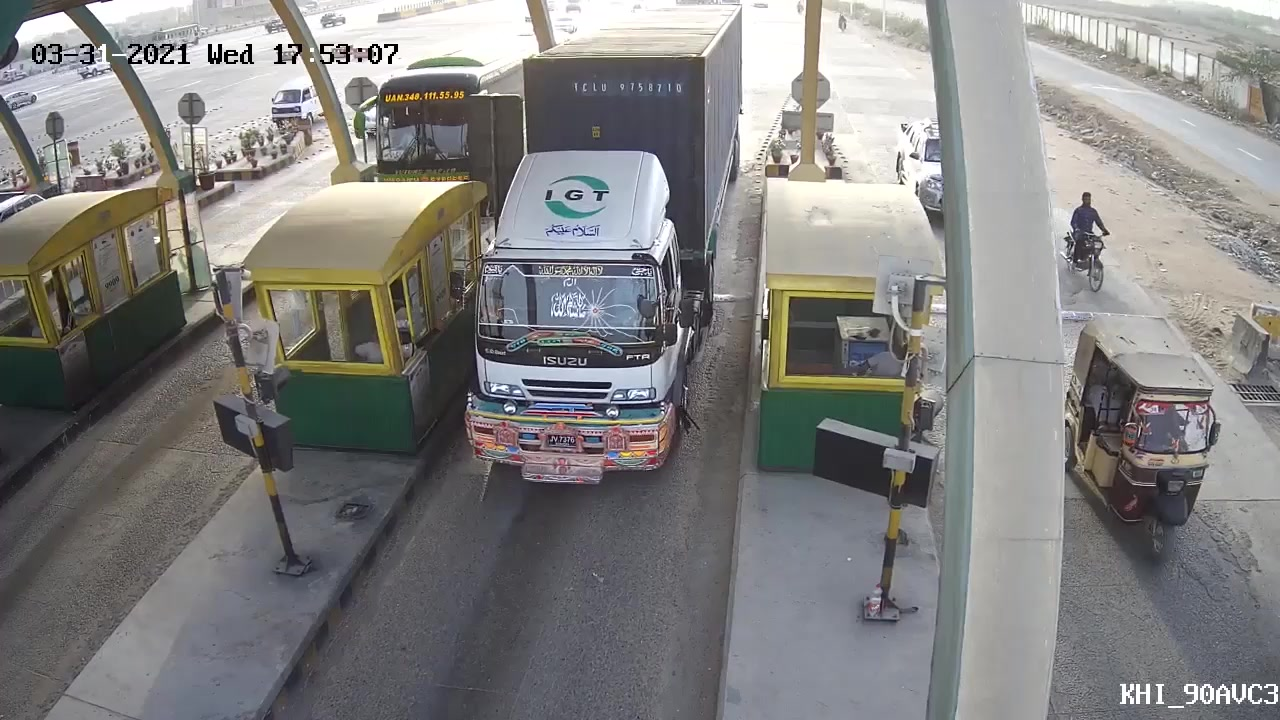F6: (444, 42, 712, 498)
